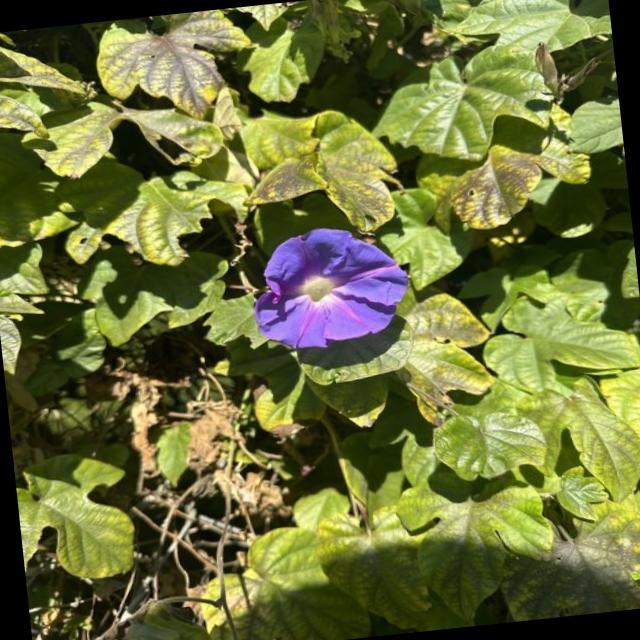ipomoea: (240, 218, 417, 358)
